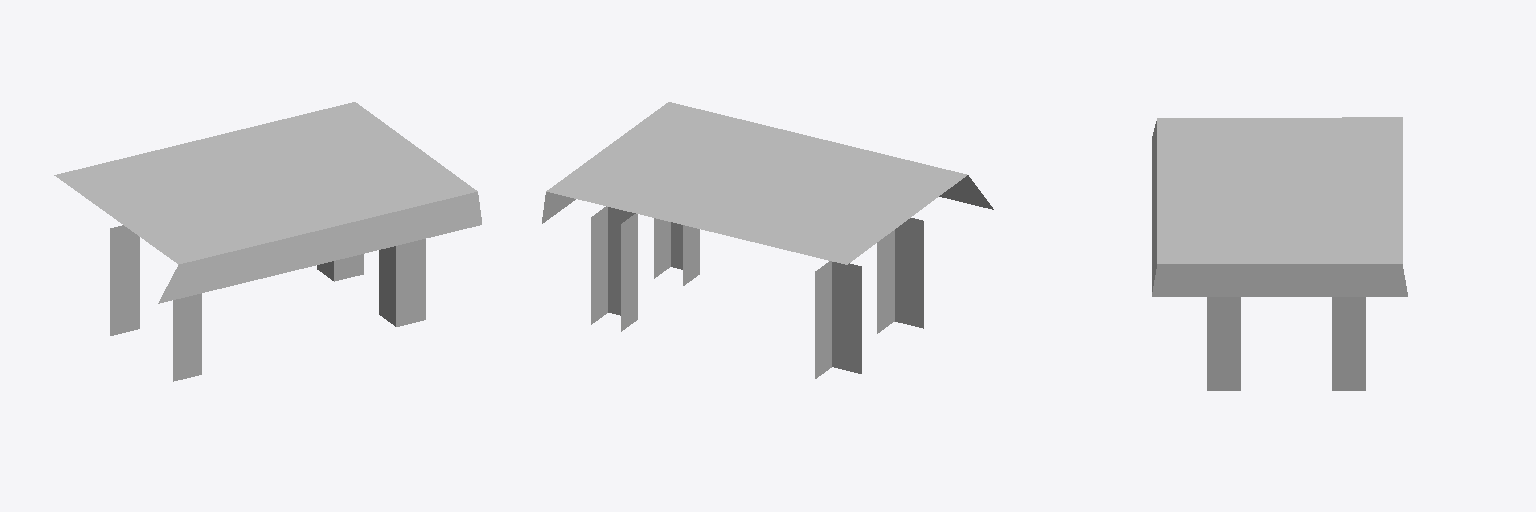
Rendered from child_library_table.obj.
3 views of the same model, side by side, from view 1: azimuth 30°, elevation 25°; view 2: azimuth 150°, elevation 25°; view 3: azimuth 270°, elevation 25° (orthographic).
Visible parts, largest first — view 1: Table; view 2: Table; view 3: Table.
Boxes of the visible parts, x1=… form: Table: x1=54, y1=102, x2=481, y2=381; Table: x1=542, y1=102, x2=993, y2=378; Table: x1=1152, y1=117, x2=1407, y2=390.
Bounding box in the file's own units: 2.79 × 1.15 × 1.91.